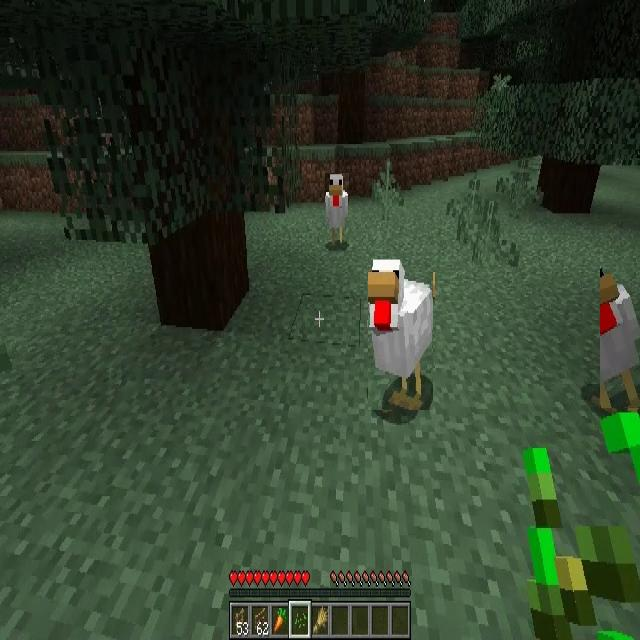duck: (368, 258, 433, 410), (600, 262, 640, 408), (325, 173, 349, 246)
